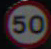Speed limit: (6, 2, 49, 41)
